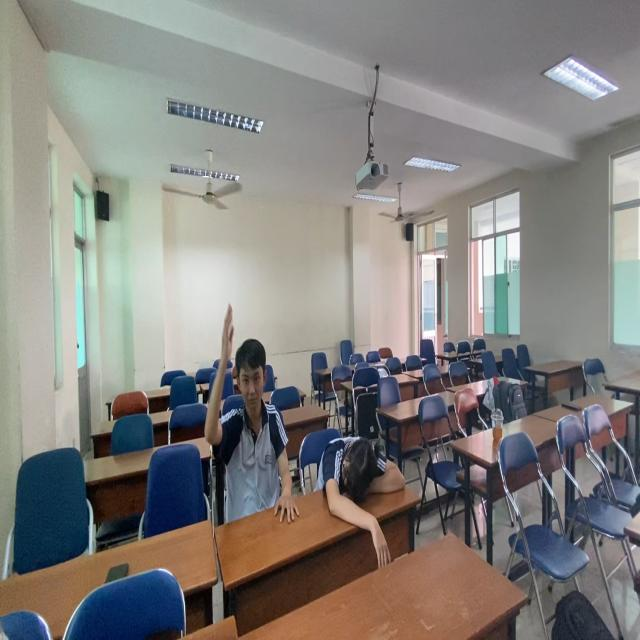raise_hand: (207, 299, 296, 519)
sleep: (317, 435, 411, 535)
